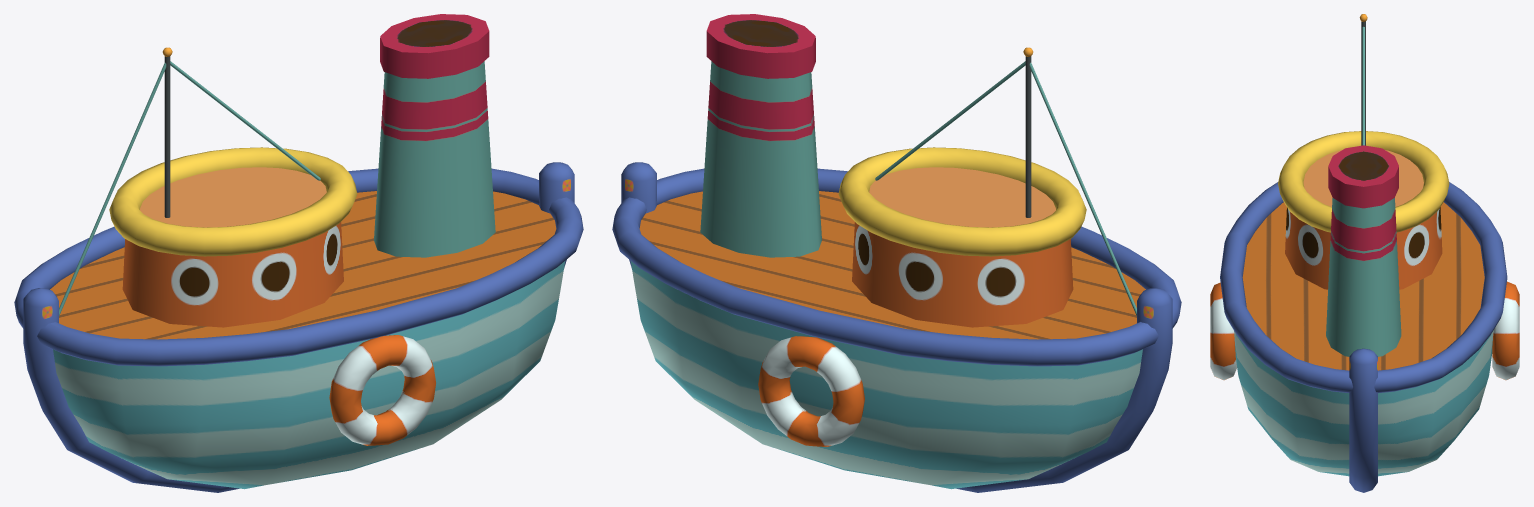
The picture shows the model from 3 angles, left to right: view 1: azimuth 30°, elevation 25°; view 2: azimuth 150°, elevation 25°; view 3: azimuth 270°, elevation 25°; orthographic projection. The views are drawn at different scales.
Parts seen in each view (by area): view 1: wk_s02_06; view 2: wk_s02_06; view 3: wk_s02_06.
Boxes of the visible parts, x1,y1,x2,y2 form: wk_s02_06: (14, 14, 583, 492); wk_s02_06: (612, 14, 1181, 492); wk_s02_06: (1210, 14, 1519, 492).
Size of the model in its own units: 11.62 by 6.8 by 9.33.
1 material, 1 textured.
